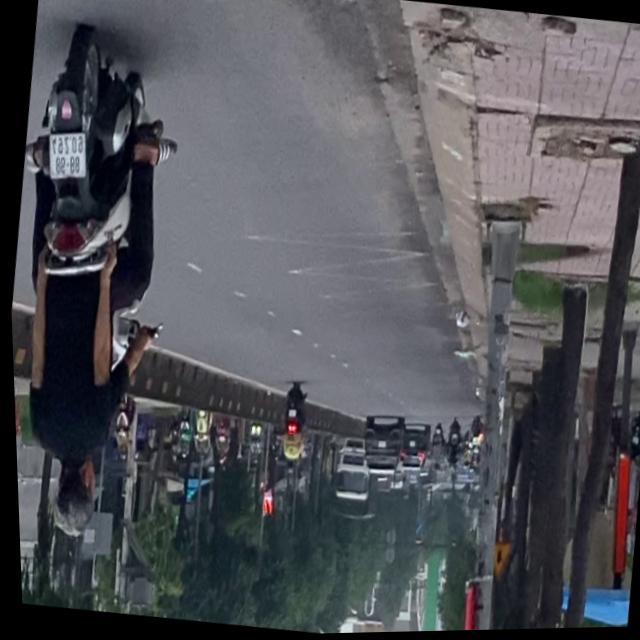licenseplate: (1, 19, 194, 551)
motorcyclist: (41, 455, 96, 537)
nohelmet: (43, 128, 88, 180)
